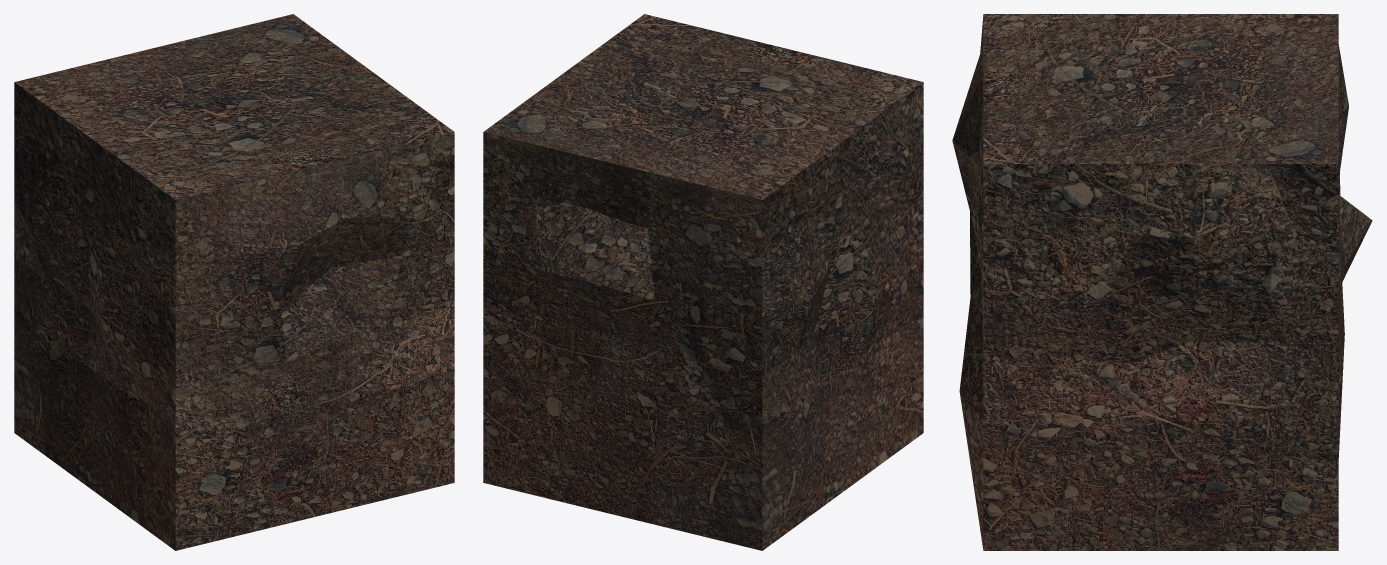
Rendered from EarthWall6.glb.
3 renders of one model, left to right at view 1: azimuth 30°, elevation 25°; view 2: azimuth 150°, elevation 25°; view 3: azimuth 270°, elevation 25°, orthographic. The views are drawn at different scales.
Visible parts, largest first — view 1: Cube; view 2: Cube; view 3: Cube.
Part boxes in pixels (x1=…): Cube: x1=14, y1=14, x2=454, y2=550; Cube: x1=483, y1=14, x2=923, y2=550; Cube: x1=952, y1=14, x2=1372, y2=550.
Size of the model in its own units: 2.32 by 2.4 by 2.37.
1 material, 1 textured.
